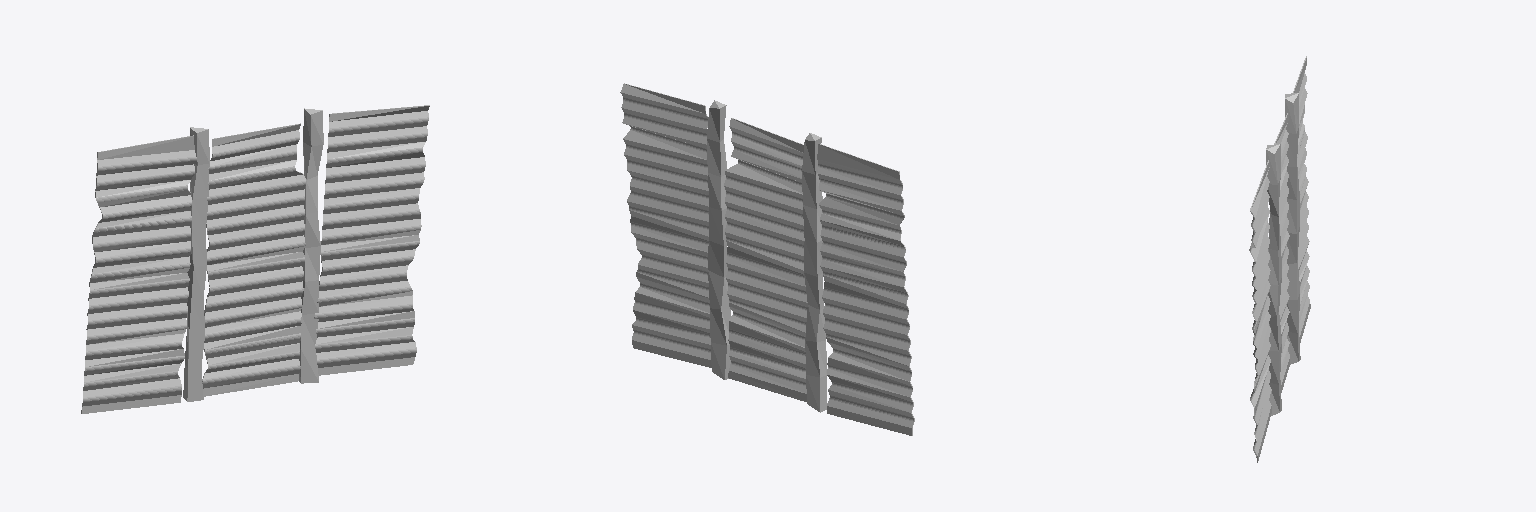
The model's file is Zinc Fence.obj.
3 views of the same model, side by side, from view 1: azimuth 30°, elevation 25°; view 2: azimuth 150°, elevation 25°; view 3: azimuth 270°, elevation 25° (orthographic).
Parts seen in each view (by area): view 1: Cube.052; view 2: Cube.052; view 3: Cube.052.
Boxes of the visible parts, box(x1,y1,x2,y2) form: Cube.052: box(81, 105, 429, 413); Cube.052: box(620, 83, 914, 435); Cube.052: box(1249, 56, 1310, 462).
Bounding box in the file's own units: 9.49 × 7.72 × 1.57.